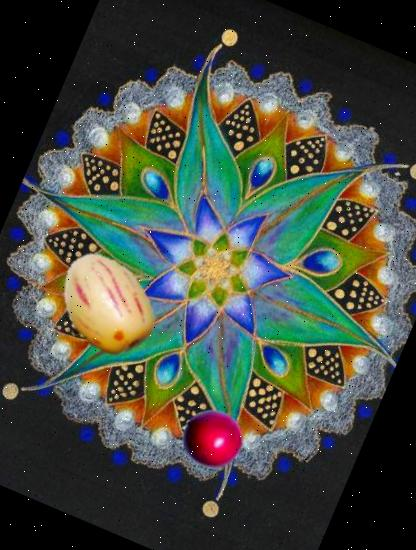Pepino: (34, 234, 178, 378)
Tamarillo: (172, 400, 252, 479)
